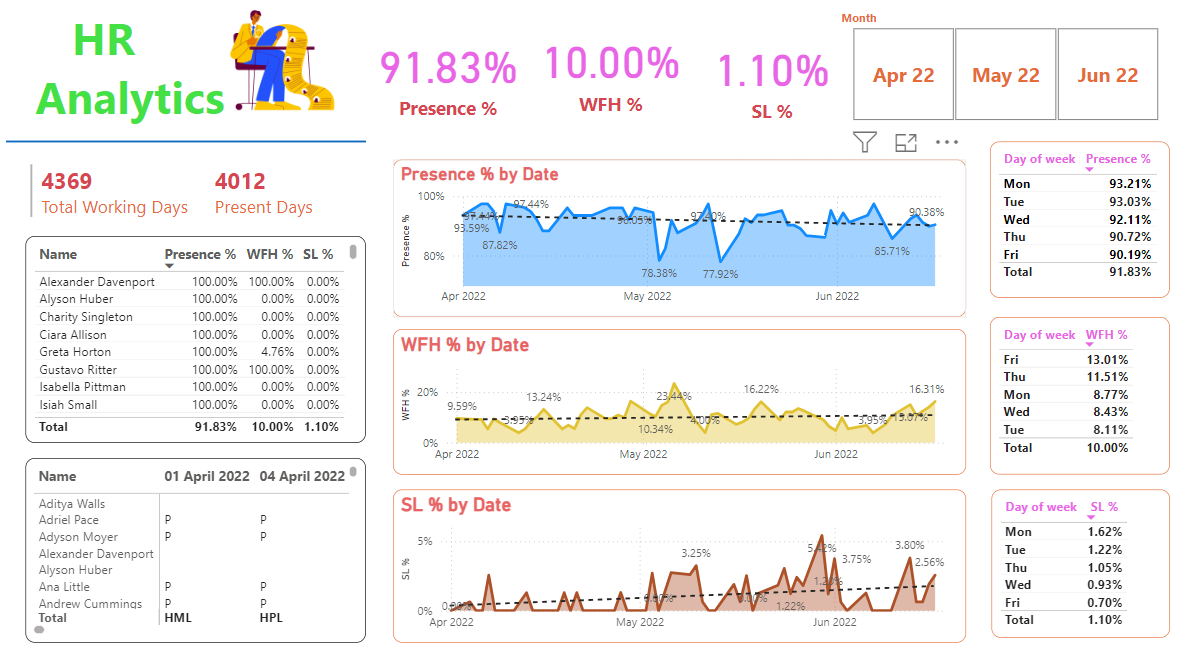

The dashboard page shown, as its layout file describes it:
{"tool":"powerbi","page":{"name":"Page 1","canvas":[1280,720],"ordinal":0},"visuals":[{"type":"multiRowCard","fields":{"Values":["Measure Table.Total Working Days","Measure Table.Present Days"]},"box":[34,179.7,396.7,69.6],"z":0},{"type":"card","fields":{"Values":["Measure Table.WFH %"]},"box":[565.1,4.9,200.8,155.4],"z":1000},{"type":"card","fields":{"Values":["Measure Table.Presence %"]},"box":[388.6,9.7,202.4,155.4],"z":3000},{"type":"slicer","fields":{"Values":["Final Data.Month"]},"box":[901.9,13,378.9,131.2],"z":4000},{"type":"card","fields":{"Values":["Measure Table.SL %"]},"box":[765.9,21,147.3,139.3],"z":5000},{"type":"tableEx","fields":{"Values":["Final Data.Name","Measure Table.Presence %","Measure Table.WFH %","Measure Table.SL %"]},"box":[34,262.3,367.6,223.5],"z":6000},{"type":"pivotTable","fields":{"Rows":["Final Data.Name"],"Values":["Final Data.Value"],"Columns":["Final Data.Date"]},"box":[34,502,367.6,199.2],"z":7000},{"type":"areaChart","fields":{"Category":["Final Data.Date"],"Y":["Measure Table.Presence %"]},"box":[430.7,179.7,618.5,170],"z":8000},{"type":"areaChart","fields":{"Category":["Final Data.Date"],"Y":["Measure Table.WFH %"]},"box":[430.7,362.7,618.5,157.1],"z":9000},{"type":"areaChart","fields":{"Category":["Final Data.Date"],"Y":["Measure Table.SL %"]},"box":[430.7,536,618.5,165.2],"z":10000},{"type":"tableEx","fields":{"Values":["Final Data.Day of week","Measure Table.Presence %"]},"box":[1075.2,160.3,194.3,168.4],"z":11000},{"type":"tableEx","fields":{"Values":["Final Data.Day of week","Measure Table.WFH %"]},"box":[1075.2,349.8,194.3,170],"z":12000},{"type":"tableEx","fields":{"Values":["Final Data.Day of week","Measure Table.SL %"]},"box":[1076.8,536,192.7,160.3],"z":13000},{"type":"textbox","box":[13,9.7,364.3,150.6],"z":13001},{"type":"shape","box":[13,142.5,388.6,35.6],"z":13002},{"type":"image","box":[244.5,0,132.8,144.1],"z":13003}]}

Visuals, with their boxes in screenshot pixels (x1, y1, x2, y2), scaled from the page's 1280x720 canvas onto the 1180x659 screenshot:
multiRowCard - Measure Table.Total Working Days x Measure Table.Present Days: <bbox>31, 164, 397, 228</bbox>
card - Measure Table.WFH %: <bbox>521, 4, 706, 147</bbox>
card - Measure Table.Presence %: <bbox>358, 9, 545, 151</bbox>
slicer - Final Data.Month: <bbox>831, 12, 1179, 132</bbox>
card - Measure Table.SL %: <bbox>706, 19, 842, 147</bbox>
tableEx - Final Data.Name x Measure Table.Presence %: <bbox>31, 240, 370, 445</bbox>
pivotTable - Final Data.Name x Final Data.Value: <bbox>31, 459, 370, 642</bbox>
areaChart - Final Data.Date x Measure Table.Presence %: <bbox>397, 164, 967, 320</bbox>
areaChart - Final Data.Date x Measure Table.WFH %: <bbox>397, 332, 967, 476</bbox>
areaChart - Final Data.Date x Measure Table.SL %: <bbox>397, 491, 967, 642</bbox>
tableEx - Final Data.Day of week x Measure Table.Presence %: <bbox>991, 147, 1170, 301</bbox>
tableEx - Final Data.Day of week x Measure Table.WFH %: <bbox>991, 320, 1170, 476</bbox>
tableEx - Final Data.Day of week x Measure Table.SL %: <bbox>993, 491, 1170, 637</bbox>
textbox: <bbox>12, 9, 348, 147</bbox>
shape: <bbox>12, 130, 370, 163</bbox>
image: <bbox>225, 0, 348, 132</bbox>
